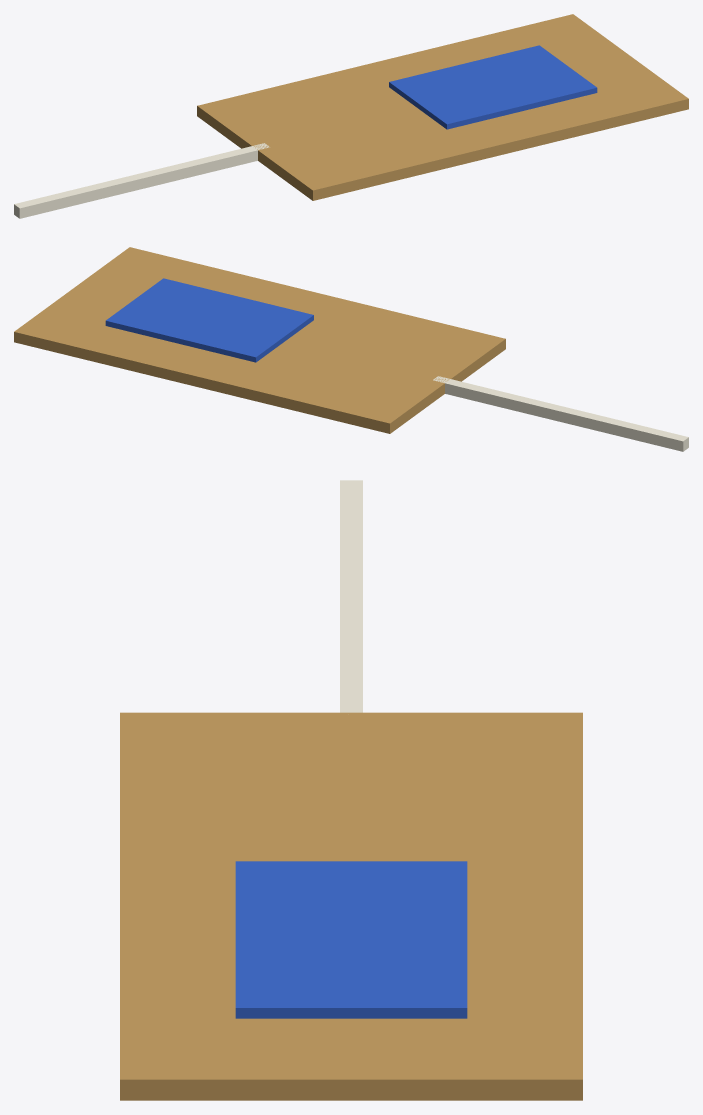
File: customs_label.glb
3 views of the same model, one above another, from view 1: azimuth 30°, elevation 25°; view 2: azimuth 150°, elevation 25°; view 3: azimuth 270°, elevation 25° (orthographic). The views are drawn at different scales.
Parts seen in each view (by area): view 1: tag_customs_brown, stamp_customs_stamp, string_customs_string; view 2: tag_customs_brown, stamp_customs_stamp, string_customs_string; view 3: tag_customs_brown, stamp_customs_stamp, string_customs_string.
Boxes of the visible parts, x1,y1,x2,y2 form: tag_customs_brown: (197,14,688,200); stamp_customs_stamp: (389,45,597,129); string_customs_string: (14,143,269,218); tag_customs_brown: (14,247,505,433); stamp_customs_stamp: (105,278,313,362); string_customs_string: (433,376,688,451); tag_customs_brown: (120,712,582,1100); stamp_customs_stamp: (235,861,467,1018); string_customs_string: (340,480,362,712).
Size of the model in its own units: 0.245 by 0.006 by 0.08.
